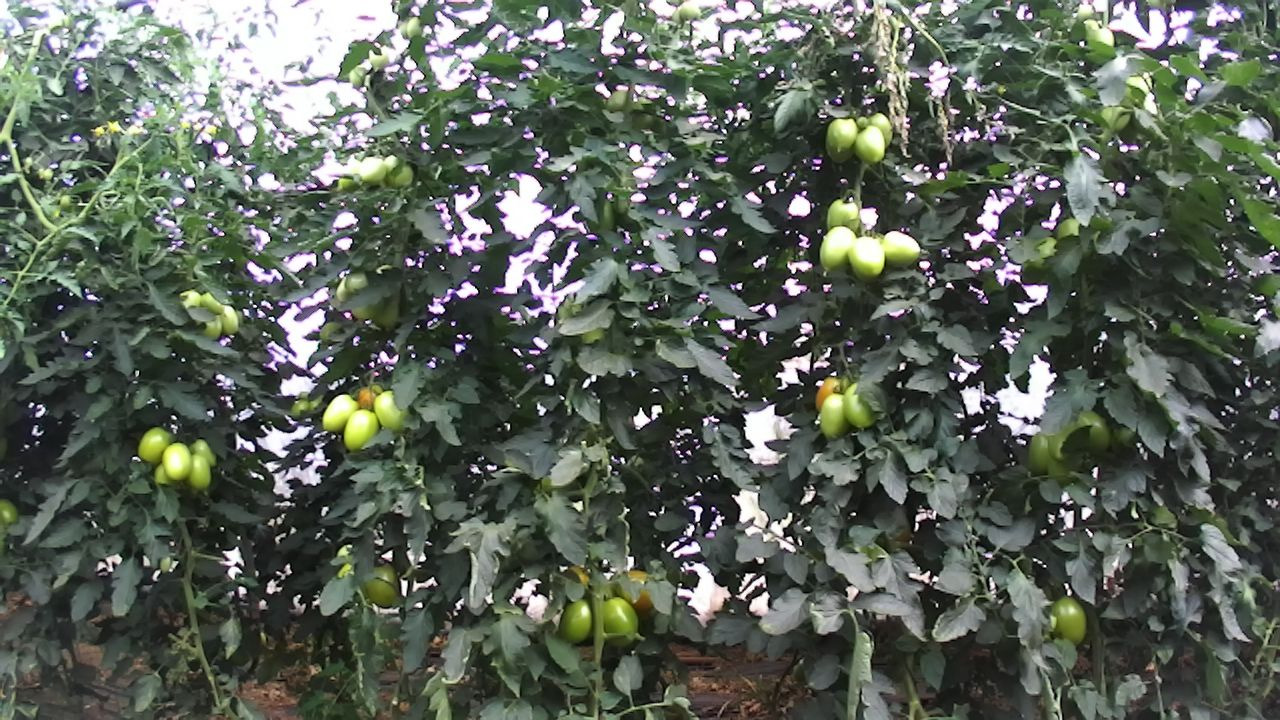tomato: (362, 556, 402, 611), (601, 595, 643, 647), (1048, 595, 1088, 648), (817, 223, 857, 274), (1074, 406, 1113, 458), (341, 405, 381, 454), (846, 235, 886, 283), (320, 391, 363, 434), (841, 381, 878, 430), (880, 228, 922, 271), (557, 596, 593, 645), (134, 424, 175, 467), (851, 123, 886, 165), (819, 391, 847, 441), (823, 195, 860, 232), (160, 440, 192, 482), (825, 116, 858, 153), (185, 452, 214, 492), (217, 299, 241, 337)
